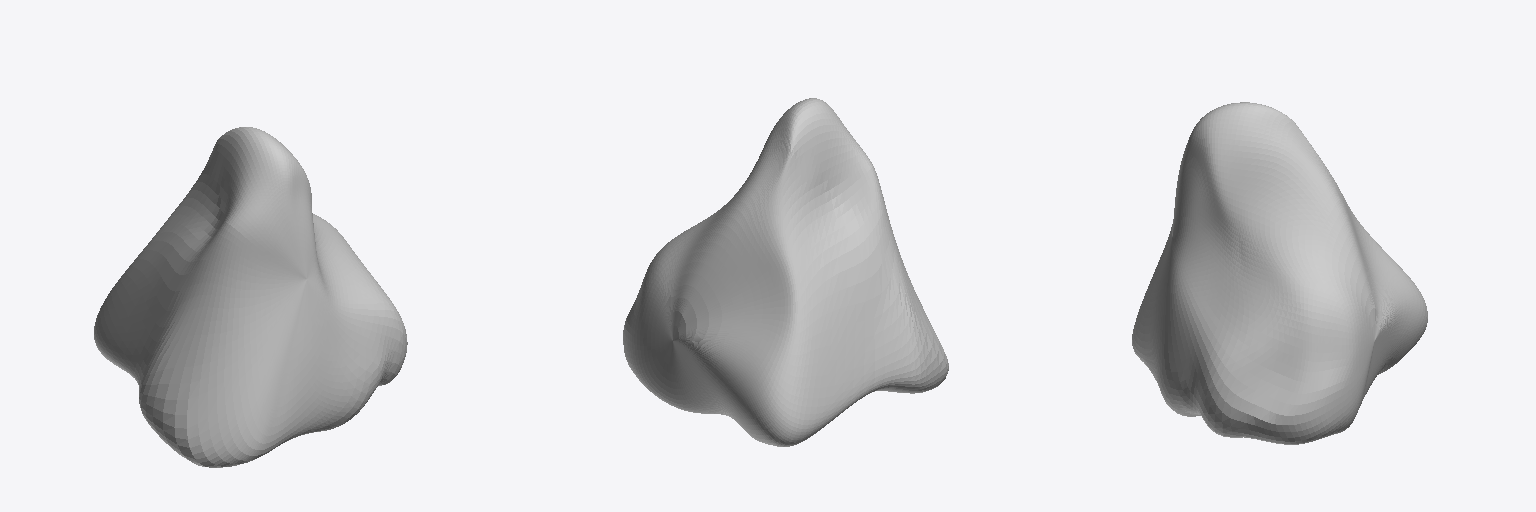
The model's file is blob.OBJ.
3 views of the same model, side by side, from view 1: azimuth 30°, elevation 25°; view 2: azimuth 150°, elevation 25°; view 3: azimuth 270°, elevation 25° (orthographic).
Visible parts, largest first — view 1: Group8378; view 2: Group8378; view 3: Group8378.
Part boxes in pixels (left/top/right/bottom): Group8378: left=94, top=127, right=407, bottom=467; Group8378: left=623, top=98, right=948, bottom=446; Group8378: left=1132, top=102, right=1427, bottom=444.
Size of the model in its own units: 2.55 by 2.59 by 2.43.